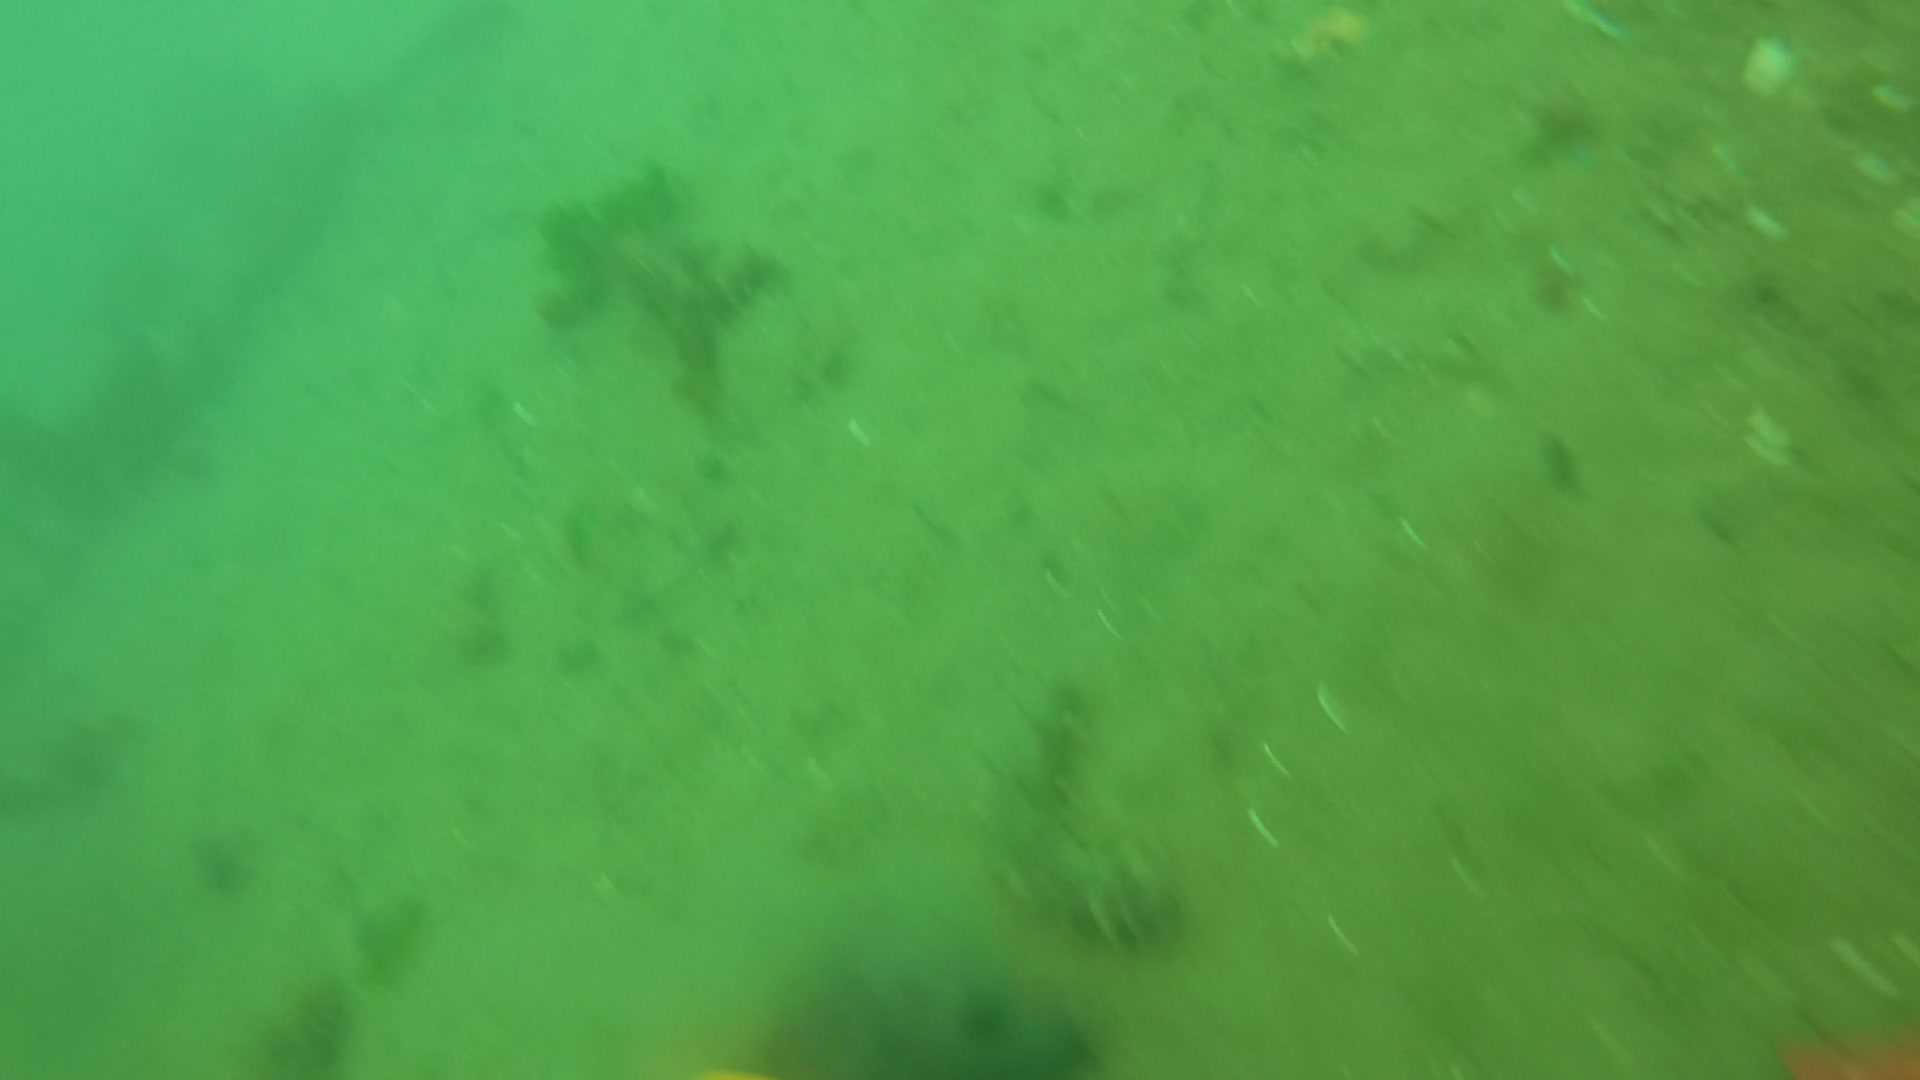holothurian: (988, 676, 1185, 940)
